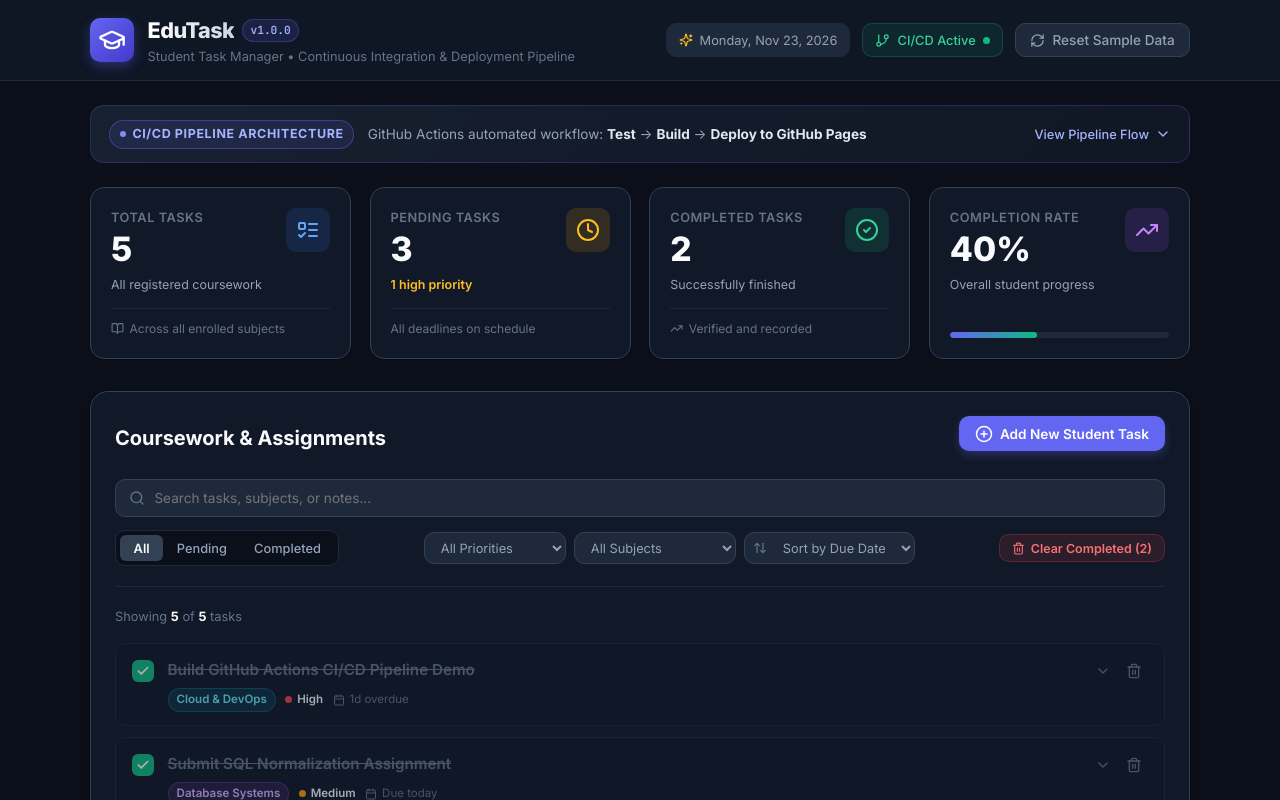
Test: Student Task Manager - App & CI/CD Automated Tests › deletes a task when delete button is clicked
Expected: the text "Submit SQL Normalization Assignment" is shown, [168,754,451,773]
Click the button named "Delete task \"Submit SQL Normalization Assignment\"".
click(1134, 765)  # box [1121,751,1148,778]
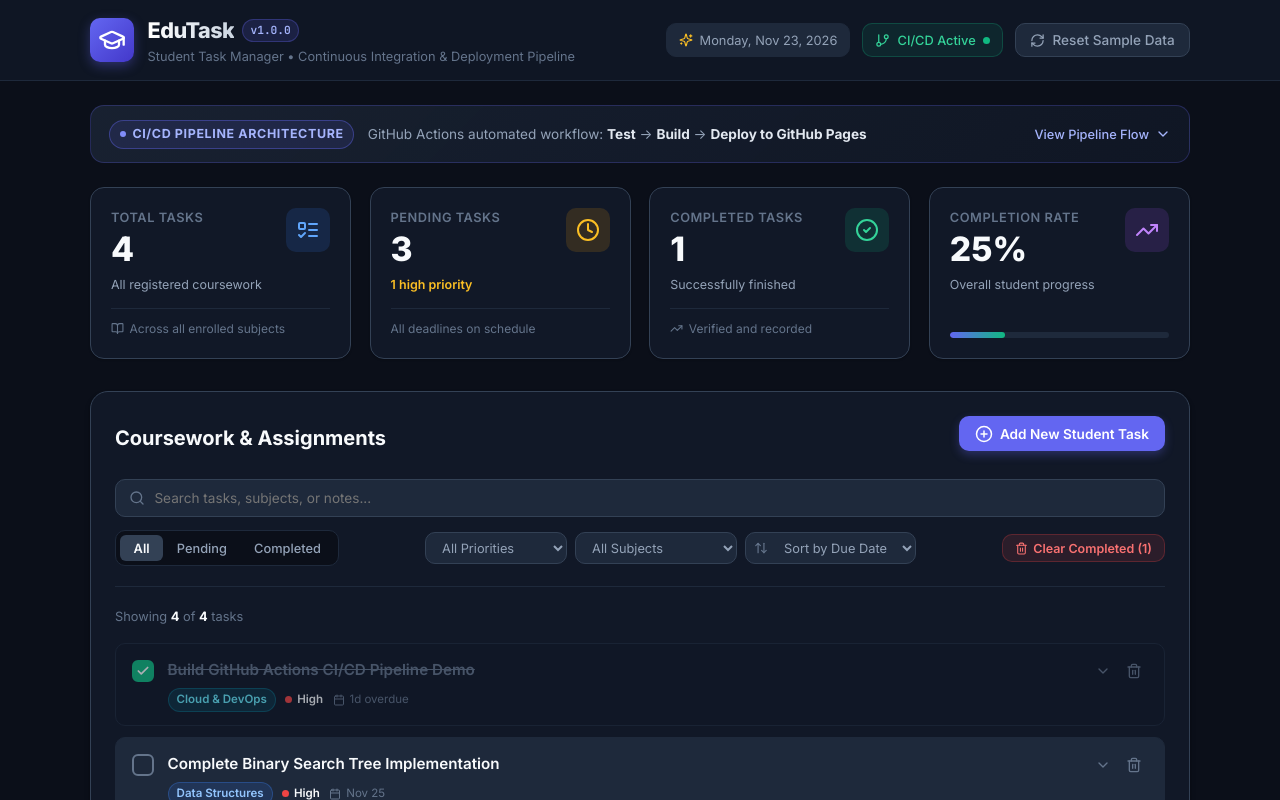
Now the text "Submit SQL Normalization Assignment" is gone
Now the heading "4" is shown, box [111,228,134,269]
